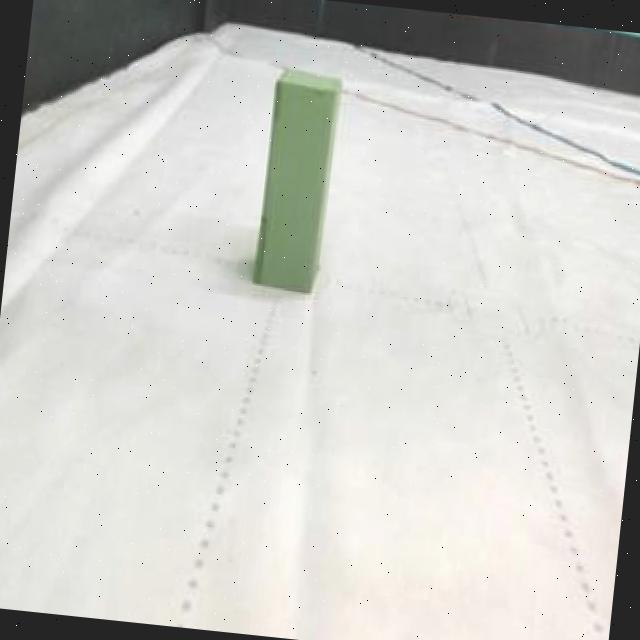greenbox: (246, 59, 344, 298)
